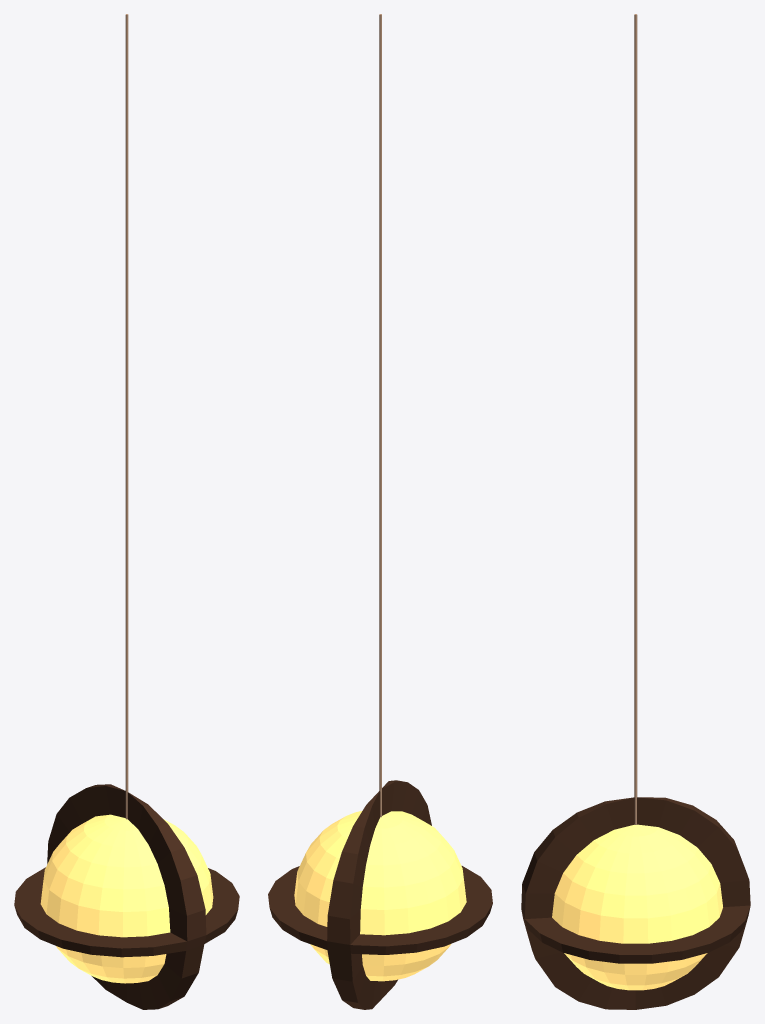
Rendered from Luce 2 Gialla.fbx.
3 views of the same model, side by side, from view 1: azimuth 30°, elevation 25°; view 2: azimuth 150°, elevation 25°; view 3: azimuth 270°, elevation 25° (orthographic).
Parts seen in each view (by area): view 1: Sphere.012; view 2: Sphere.012; view 3: Sphere.012.
Boxes of the visible parts, x1,y1,x2,y2 form: Sphere.012: [14, 14, 239, 1009]; Sphere.012: [268, 14, 492, 1009]; Sphere.012: [521, 14, 750, 1009].
Size of the model in its own units: 49.96 by 243 by 50.75.
